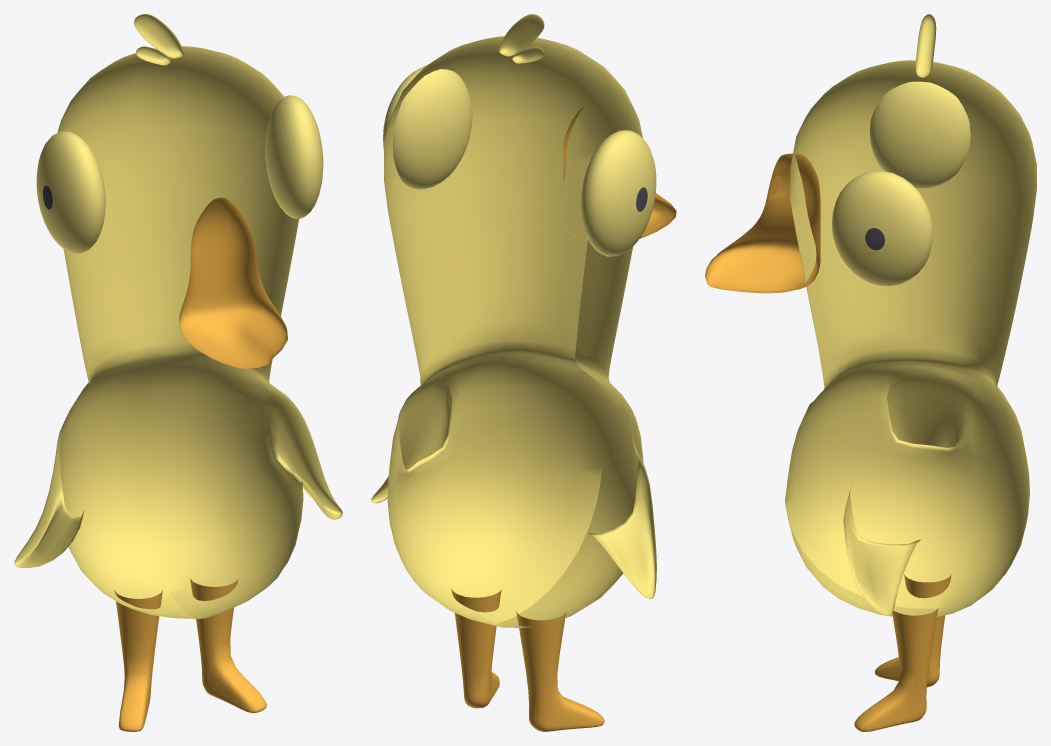
Rendered from duck.glb.
The picture shows the model from 3 angles, left to right: view 1: azimuth 30°, elevation 25°; view 2: azimuth 150°, elevation 25°; view 3: azimuth 270°, elevation 25°; orthographic projection. The views are drawn at different scales.
Visible parts, largest first — view 1: CuteDuck_Model; view 2: CuteDuck_Model; view 3: CuteDuck_Model.
Part boxes in pixels (x1,y1,x2,y2): CuteDuck_Model: (14, 14, 342, 731); CuteDuck_Model: (371, 14, 676, 731); CuteDuck_Model: (705, 14, 1036, 731).
Size of the model in its own units: 0.59 by 1.3 by 0.5793.
